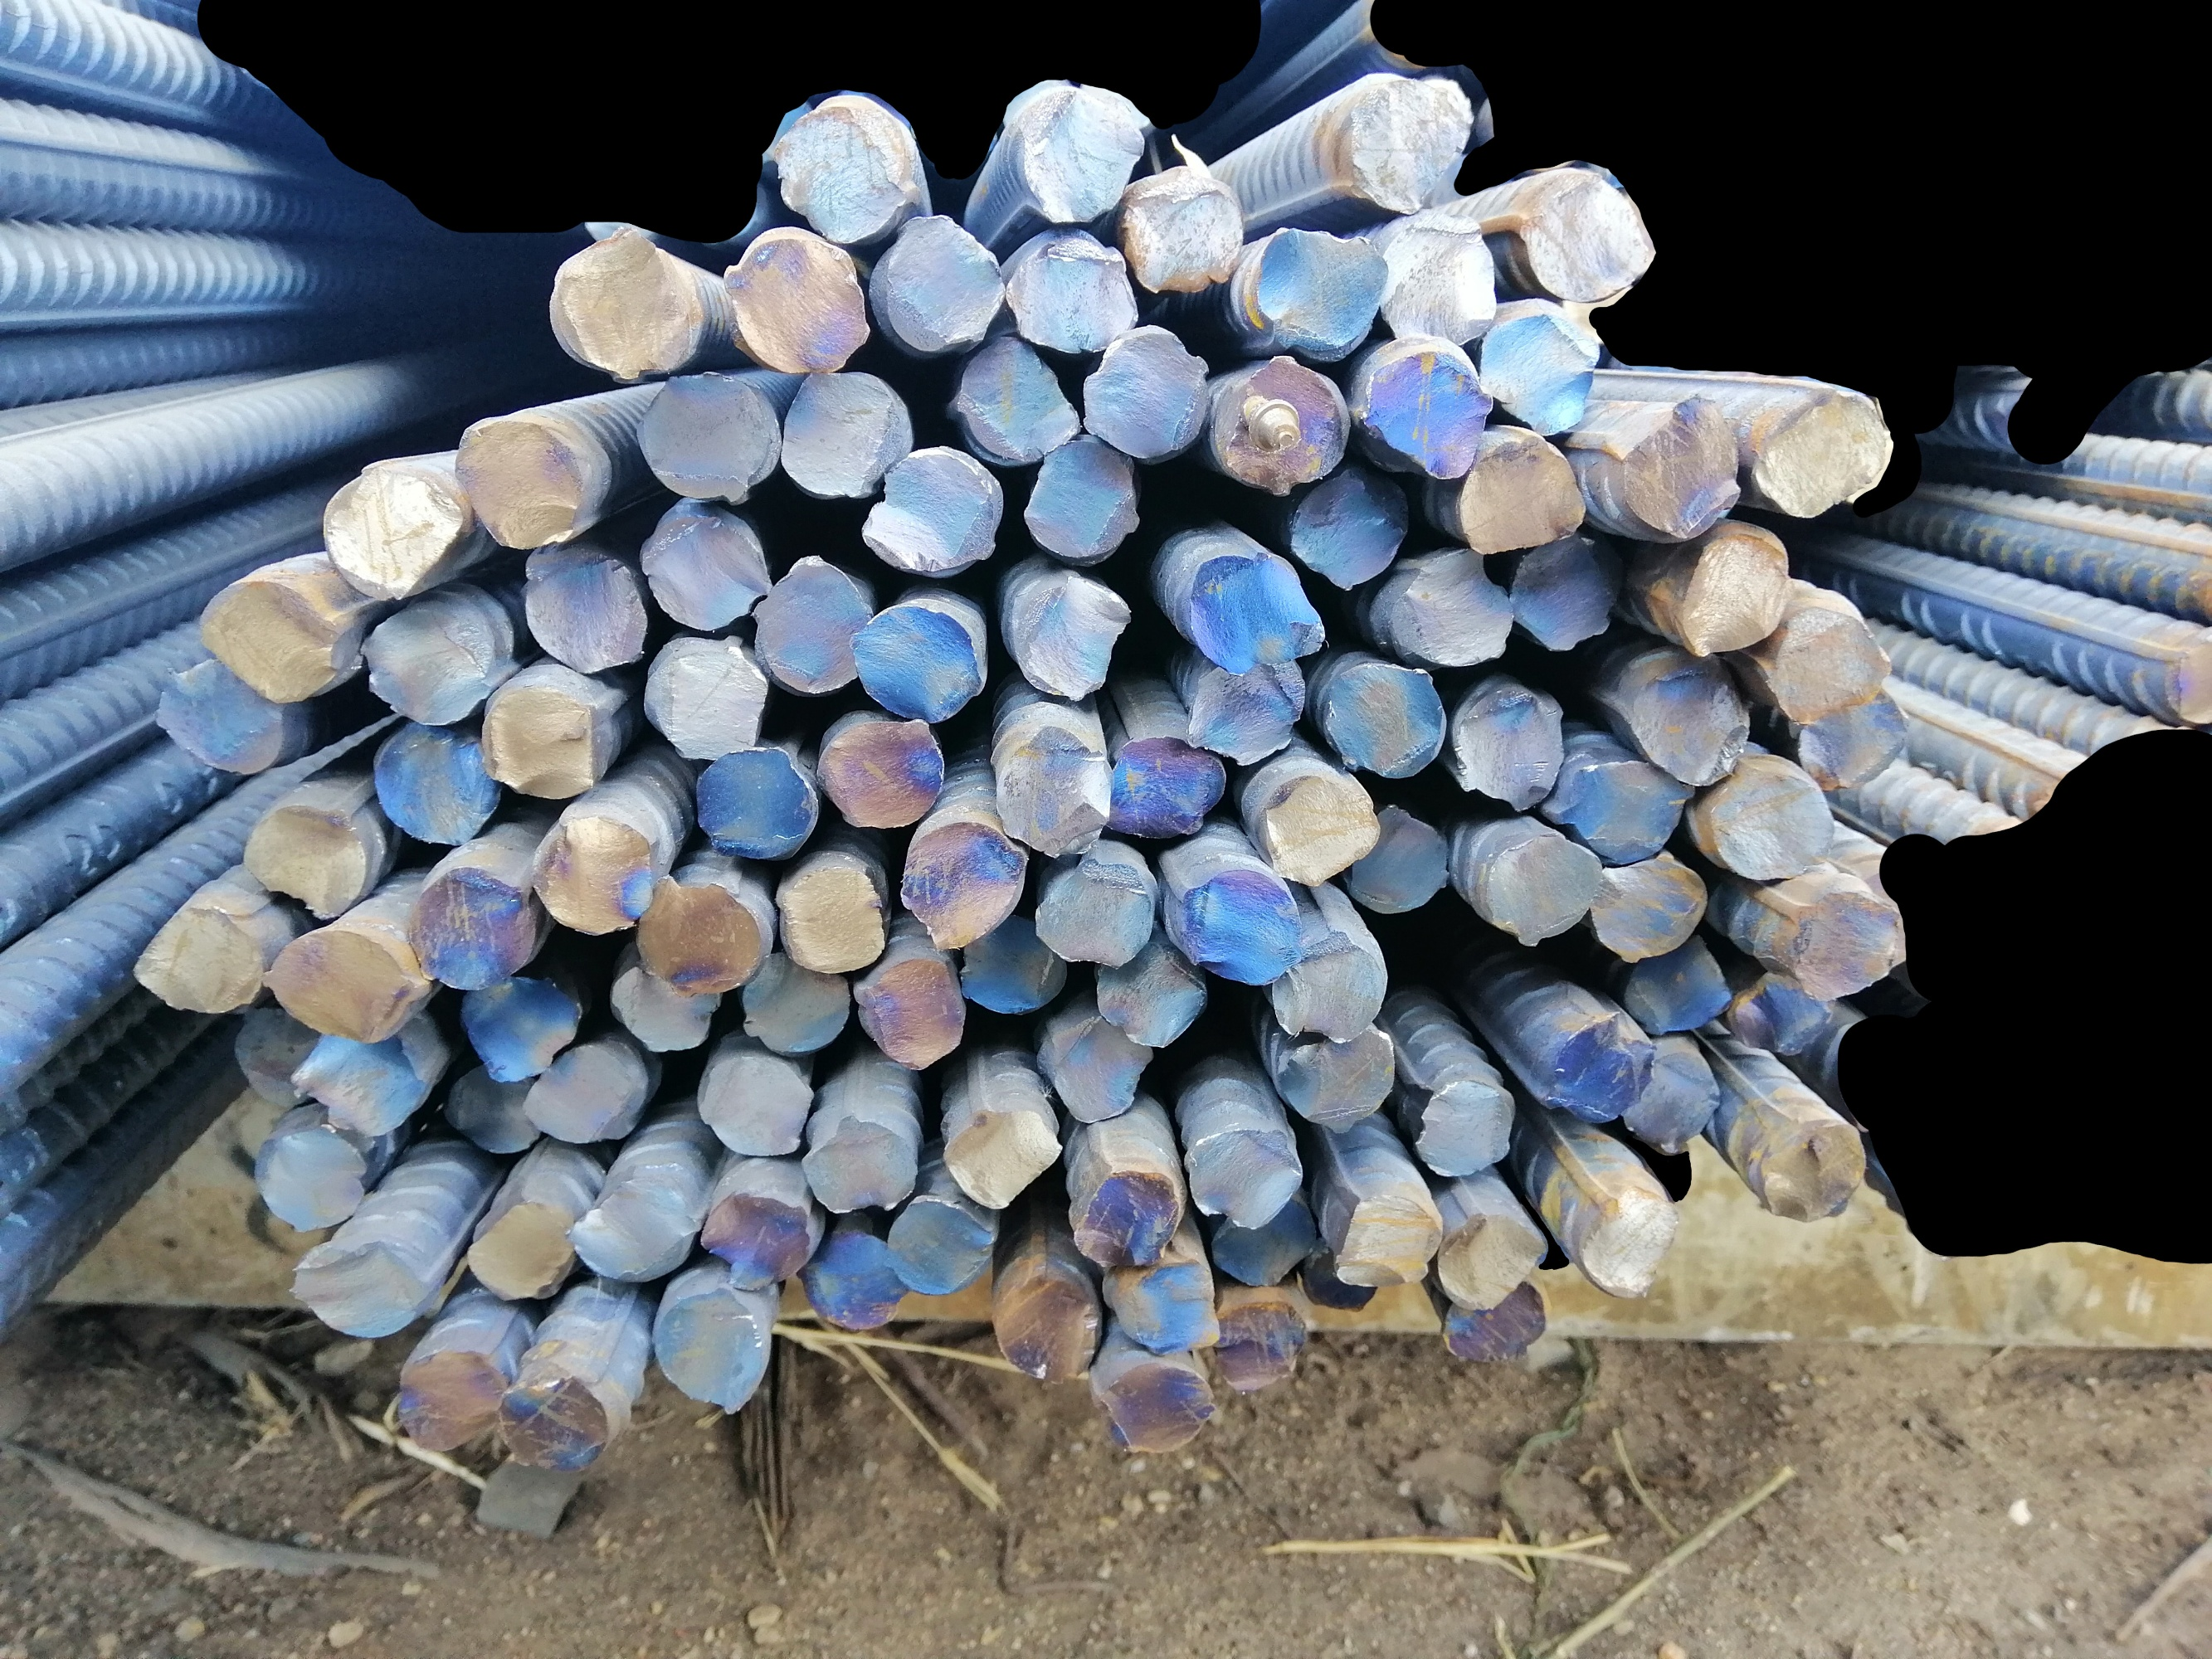rebar: (722, 230, 870, 376), (547, 235, 695, 380), (195, 570, 349, 709), (1747, 385, 1902, 521), (509, 532, 650, 676), (852, 441, 1004, 575), (774, 99, 913, 244), (354, 592, 502, 728), (636, 369, 781, 507), (1177, 549, 1328, 678), (324, 465, 465, 601), (1210, 352, 1347, 490), (450, 422, 593, 554), (1016, 87, 1149, 230), (1618, 392, 1745, 537), (263, 925, 420, 1042), (753, 549, 873, 699), (1250, 220, 1386, 352), (640, 504, 777, 634), (1361, 343, 1492, 481), (1001, 228, 1140, 356), (1445, 429, 1584, 556), (879, 211, 1004, 352), (1075, 328, 1210, 458), (955, 328, 1084, 464), (1517, 173, 1652, 300), (1766, 601, 1898, 730), (1347, 77, 1473, 213), (366, 721, 504, 845), (408, 868, 539, 995), (847, 601, 980, 727), (633, 870, 767, 993), (1008, 568, 1131, 702), (127, 901, 270, 1016), (783, 368, 906, 500), (242, 805, 378, 925), (901, 821, 1021, 955), (153, 657, 288, 777), (1557, 751, 1694, 868), (1290, 462, 1415, 589), (1705, 758, 1832, 884), (1379, 214, 1501, 345), (1675, 526, 1797, 657), (1480, 824, 1607, 948), (1630, 655, 1748, 788), (1020, 439, 1145, 563), (1175, 863, 1300, 986), (1386, 552, 1517, 671), (992, 725, 1107, 859), (1034, 849, 1161, 969), (687, 742, 814, 863), (1126, 162, 1241, 295), (821, 709, 943, 833), (1504, 535, 1632, 653), (1480, 310, 1600, 434), (291, 1028, 429, 1136), (1320, 662, 1445, 781), (655, 1286, 770, 1415), (645, 633, 762, 758), (453, 967, 580, 1082), (528, 821, 655, 936), (288, 1236, 420, 1344), (732, 941, 852, 1060), (1590, 849, 1712, 965), (1265, 932, 1386, 1049), (1785, 887, 1907, 1002), (1801, 669, 1914, 791), (1259, 772, 1375, 889), (852, 955, 967, 1073), (1569, 1180, 1679, 1304), (1098, 735, 1225, 842), (481, 685, 598, 800), (1041, 1009, 1154, 1126), (802, 1211, 906, 1337), (251, 1121, 364, 1236), (1279, 1023, 1394, 1136), (1191, 655, 1307, 767), (519, 1039, 641, 1145), (1459, 676, 1557, 809), (943, 1103, 1063, 1209), (1093, 943, 1210, 1051), (995, 1267, 1100, 1387), (1096, 1363, 1227, 1459), (776, 864, 887, 976), (1408, 1070, 1518, 1183), (1187, 1124, 1306, 1229), (1107, 1258, 1227, 1361), (490, 1375, 614, 1474), (1435, 1209, 1551, 1314), (1204, 1190, 1321, 1295), (1759, 1112, 1869, 1222), (955, 915, 1070, 1019), (568, 1190, 692, 1286), (396, 1347, 507, 1453), (880, 1192, 992, 1298), (699, 1054, 812, 1157), (1551, 1011, 1654, 1124), (1621, 936, 1736, 1037), (1623, 1044, 1724, 1159), (464, 1201, 575, 1304), (1072, 1168, 1184, 1270), (1332, 1187, 1443, 1290), (804, 1114, 915, 1215), (702, 1188, 812, 1290), (608, 958, 720, 1054), (227, 1002, 321, 1114), (1354, 809, 1452, 913), (444, 1056, 542, 1157), (1208, 1297, 1307, 1392), (1443, 1288, 1555, 1364), (1733, 971, 1832, 1056), (1304, 1244, 1381, 1316)
